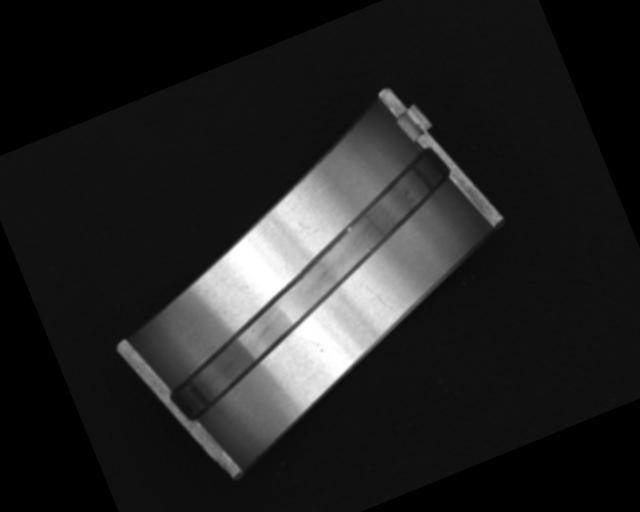gap: (119, 144, 500, 425)
nick: (365, 280, 395, 317)
